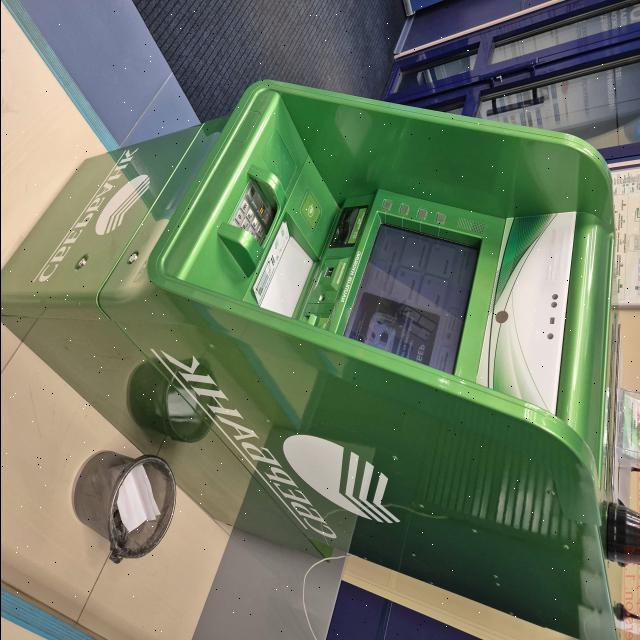bank: (0, 77, 619, 640)
